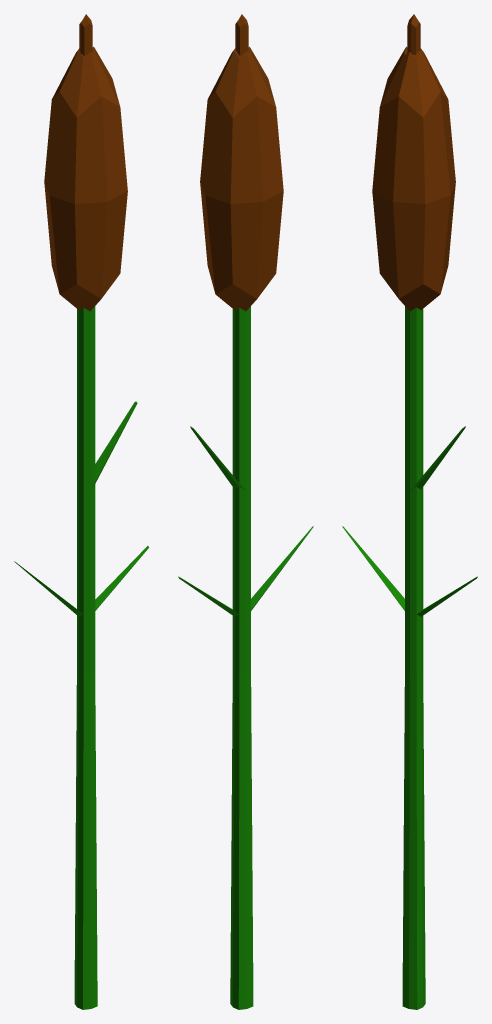
File: _amish.fbx
The picture shows the model from 3 angles, left to right: view 1: azimuth 30°, elevation 25°; view 2: azimuth 210°, elevation 25°; view 3: azimuth 330°, elevation 25°; orthographic projection.
Parts seen in each view (by area): view 1: kamish; view 2: kamish; view 3: kamish.
Boxes of the visible parts, left/top/right/bottom form: kamish: left=14, top=14, right=148, bottom=1009; kamish: left=178, top=14, right=313, bottom=1009; kamish: left=342, top=14, right=477, bottom=1009.
Size of the model in its own units: 266 by 1866 by 144.
